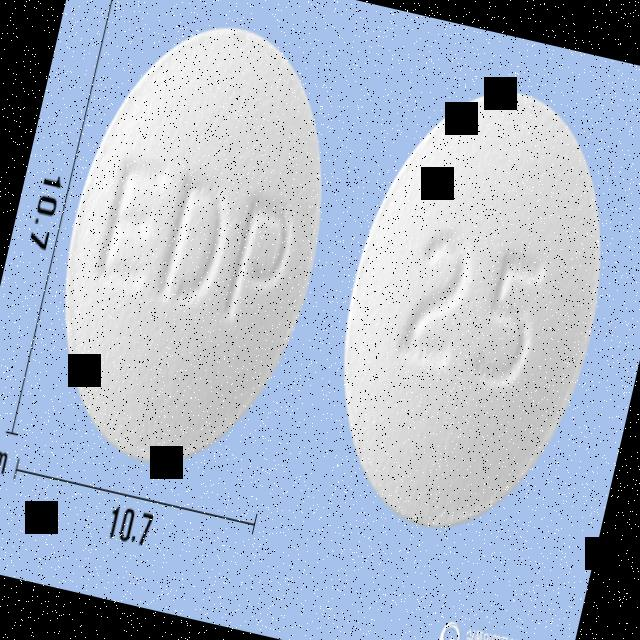Ciflox: (21, 0, 366, 496), (302, 60, 640, 558)
